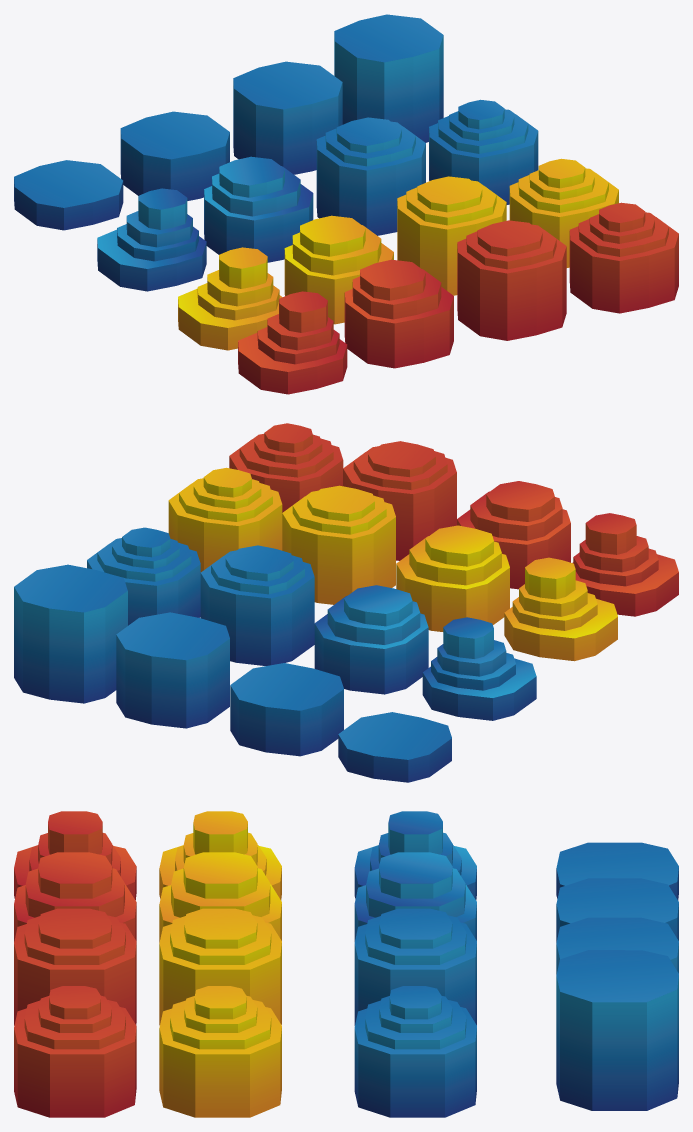
The model's file is env_packs.FBX.
3 renders of one model, top to bottom at view 1: azimuth 30°, elevation 25°; view 2: azimuth 150°, elevation 25°; view 3: azimuth 270°, elevation 25°, orthographic. The views are drawn at different scales.
Visible parts, largest first — view 1: evn_pack010, Line192, evn_pack009, evn_pack011, evn_pack3, Line193, evn_pack2, evn_pack1, evn_pack012, evn_pack4, Line194, evn_pack006 (+4 smaller); view 2: Line192, Line193, evn_pack3, evn_pack006, evn_pack2, Line194, evn_pack007, evn_pack1, evn_pack008, evn_pack005, evn_pack010, evn_pack012 (+4 smaller); view 3: Line192, evn_pack009, evn_pack005, evn_pack4, evn_pack3, evn_pack006, evn_pack010, evn_pack011, evn_pack007, evn_pack2, Line194, Line195 (+4 smaller).
Part boxes in pixels (<box>): evn_pack010: <box>457,220,566,340</box>; Line192: <box>334,14,443,142</box>; evn_pack009: <box>569,202,678,313</box>; evn_pack011: <box>344,259,453,368</box>; evn_pack3: <box>316,117,425,235</box>; Line193: <box>233,61,342,174</box>; evn_pack2: <box>204,156,313,262</box>; evn_pack1: <box>97,188,206,291</box>; evn_pack012: <box>238,291,347,394</box>; evn_pack4: <box>429,99,538,204</box>; Line194: <box>120,111,229,200</box>; evn_pack006: <box>397,176,506,295</box>; Line192: <box>14,564,127,703</box>; Line193: <box>116,612,229,728</box>; evn_pack3: <box>200,545,314,665</box>; evn_pack006: <box>282,485,395,604</box>; evn_pack2: <box>314,585,428,694</box>; Line194: <box>230,663,343,756</box>; evn_pack007: <box>396,525,509,631</box>; evn_pack1: <box>422,617,536,720</box>; evn_pack008: <box>504,557,617,661</box>; evn_pack005: <box>168,467,282,572</box>; evn_pack010: <box>343,441,456,560</box>; evn_pack012: <box>572,513,678,616</box>; Line192: <box>556,950,678,1110</box>; evn_pack009: <box>14,986,136,1117</box>; evn_pack005: <box>159,986,281,1117</box>; evn_pack4: <box>354,986,476,1117</box>; evn_pack3: <box>354,908,476,1025</box>; evn_pack006: <box>159,908,281,1025</box>; evn_pack010: <box>14,908,136,1025</box>; evn_pack011: <box>14,852,136,941</box>; evn_pack007: <box>159,852,281,942</box>; evn_pack2: <box>354,852,476,941</box>; Line194: <box>556,878,678,942</box>; Line195: <box>556,842,678,900</box>.
Bounding box in the file's own units: 391 × 80 × 443.
